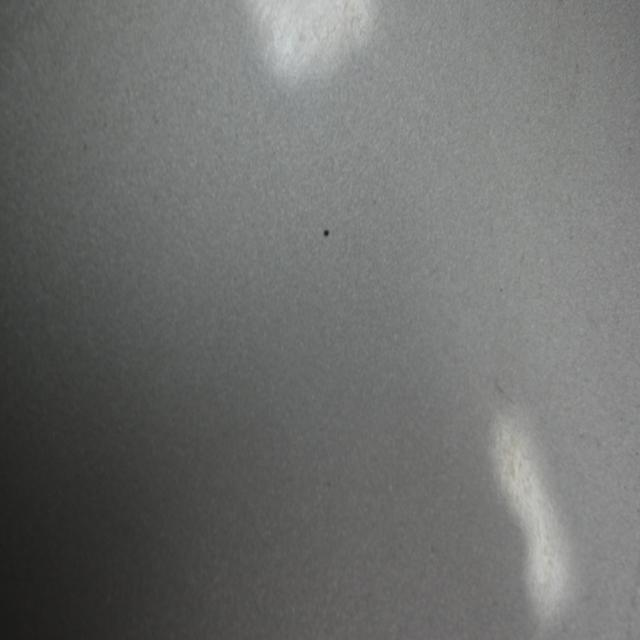dirt: (320, 224, 333, 242)
